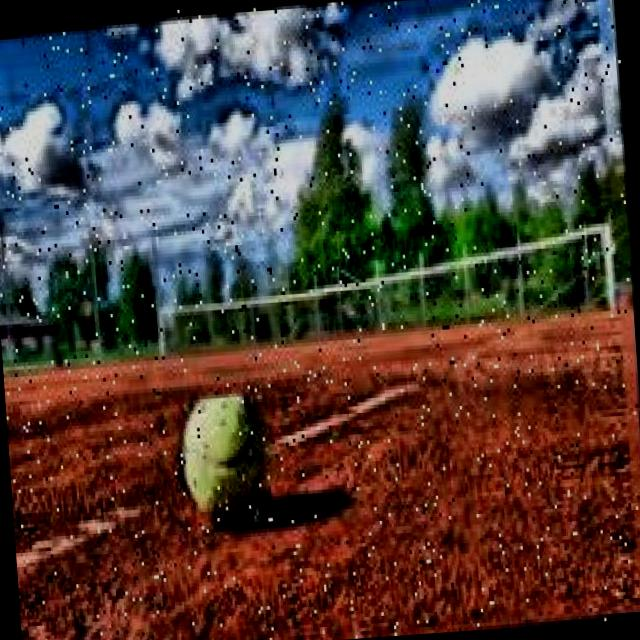tennis-ball: (174, 393, 278, 533)
